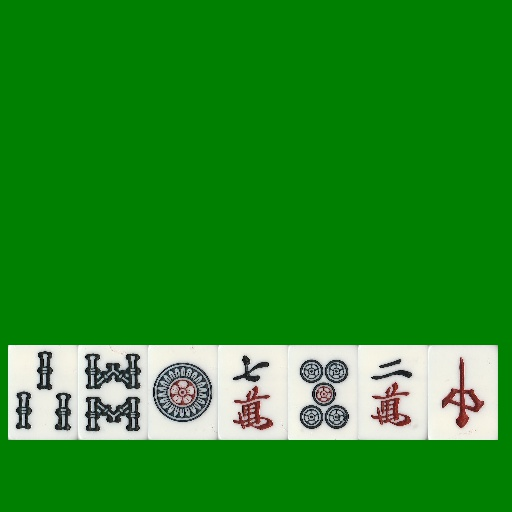1p: (148, 345, 218, 440)
2m: (358, 345, 428, 440)
3s: (8, 345, 78, 440)
5p: (288, 345, 358, 440)
7m: (218, 345, 288, 440)
8s: (78, 345, 148, 440)
tyun: (428, 345, 498, 440)
